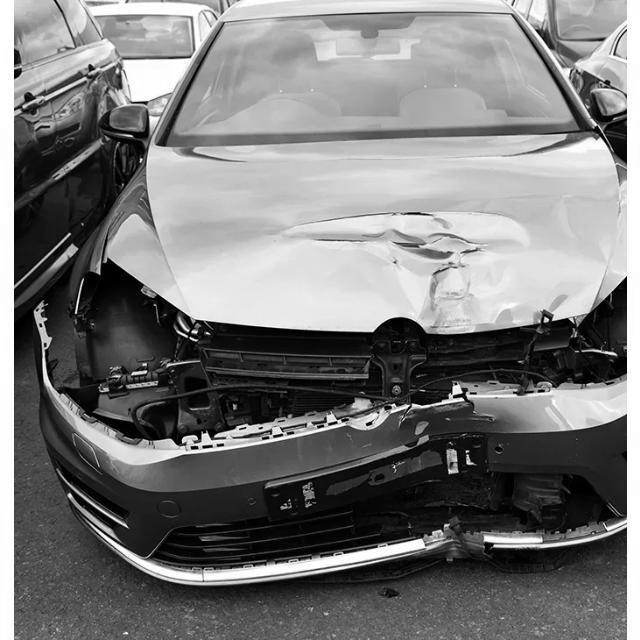Headlight-damage: (69, 275, 209, 395), (568, 262, 626, 387)
bonnet-dent: (148, 150, 614, 335)
front-bumper-dent: (43, 343, 627, 572)
